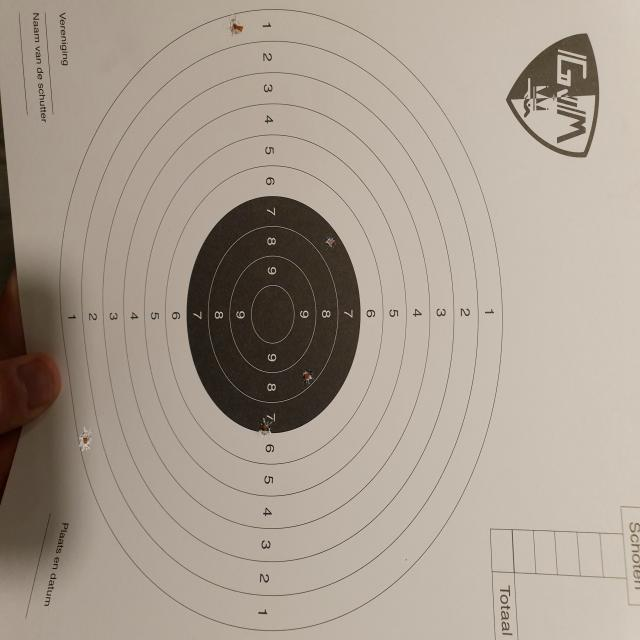1: (226, 12, 245, 40), (79, 426, 93, 452)
7: (256, 417, 276, 437), (324, 235, 337, 250)
8: (302, 370, 315, 389)
Target: (62, 8, 503, 634)
black_contour: (187, 196, 360, 434)
